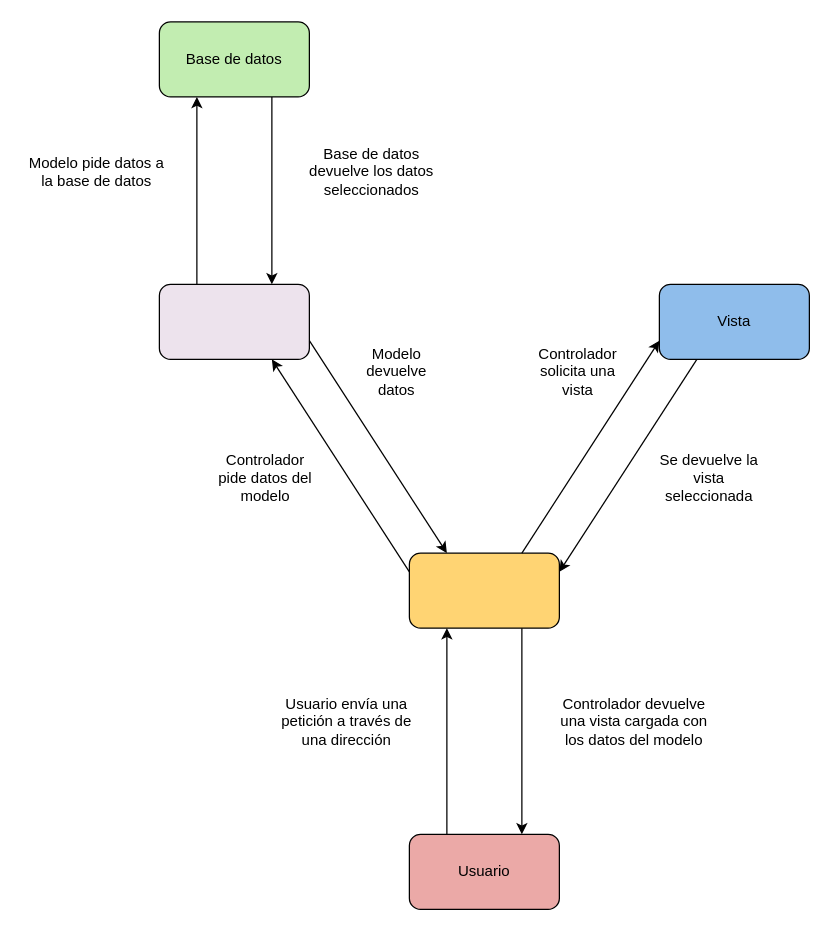
This 831x931 diagram has some shape labels left out. The shapes that lost their labels are listed below. From the top down, each one's centre as x and y in pixels, then its label:
At pixel 233 321: "Modelo".
At pixel 483 590: "Controlador".
